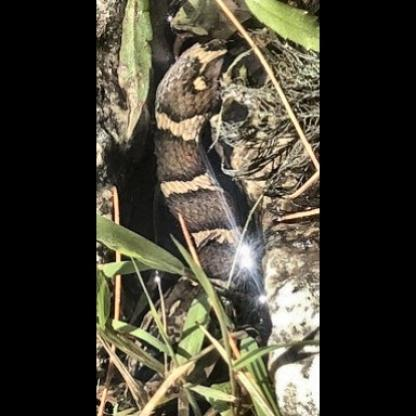Snake: (148, 0, 315, 291)
